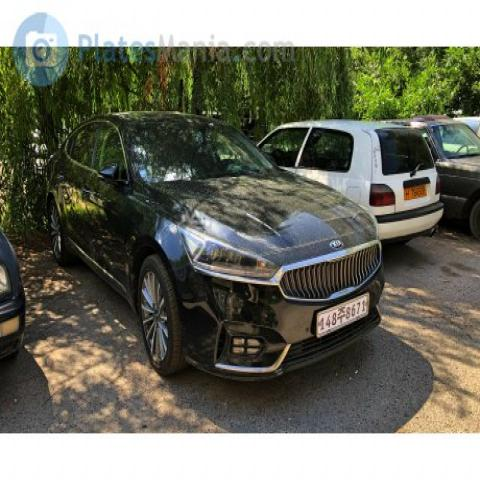LP: (310, 284, 373, 344)
